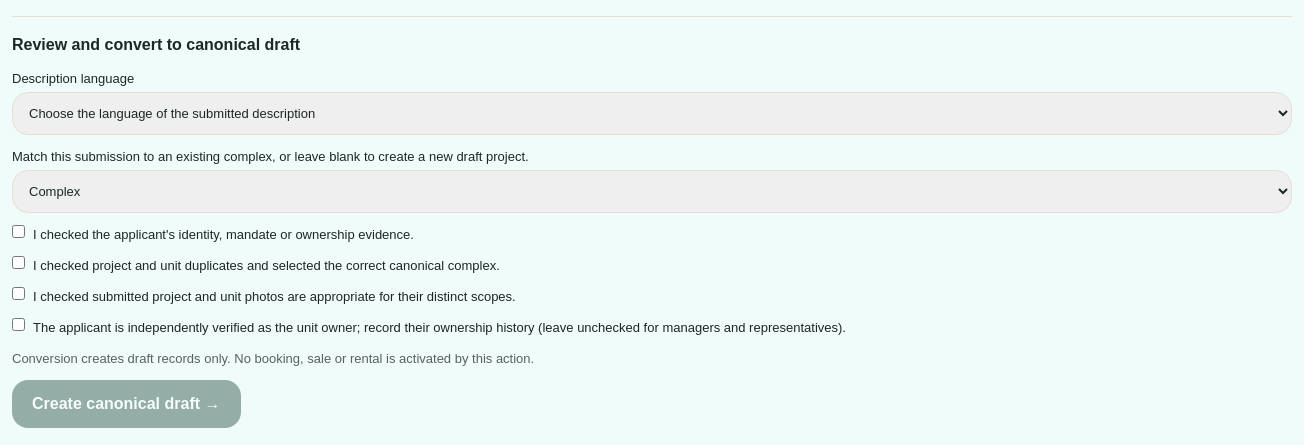
it: description language at administrative conversion › requires an explicit language for older submitted prose and leaves ownership unchecked
Click the checkbox labelled "I checked the applicant's identity, mandate or ownership evidence.": (18, 232) x1=12 y1=225 x2=25 y2=238
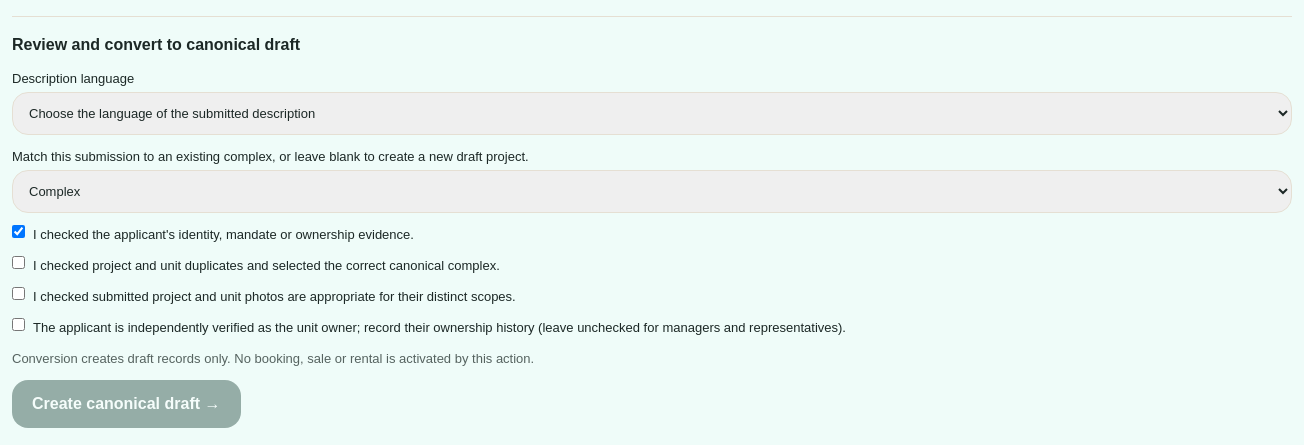
Click the checkbox named "I checked project and unit duplicates and selected the correct canonical complex.": (18, 262) x1=12 y1=256 x2=25 y2=269
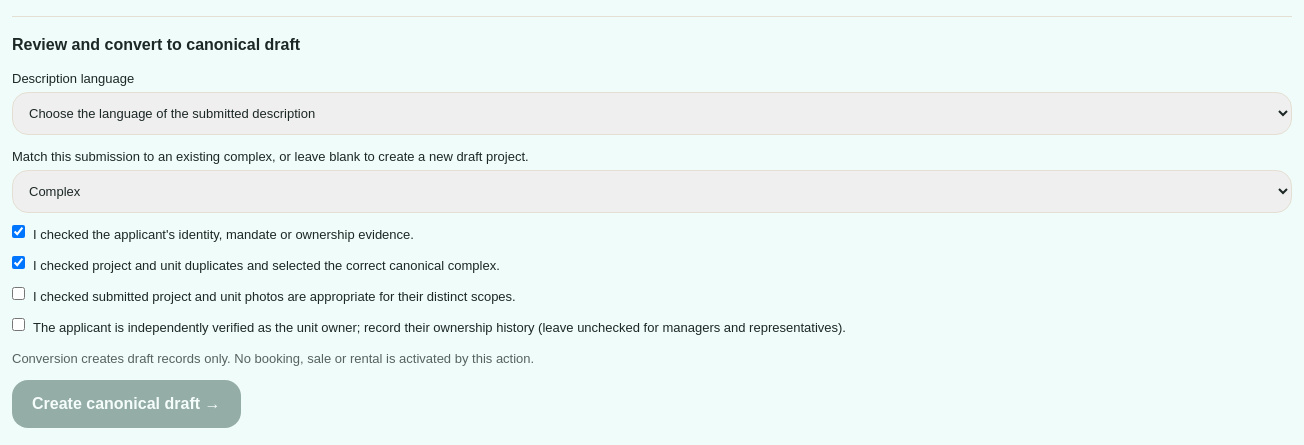
Click the checkbox named "I checked submitted project and unit photos are appropriate for their distinct scopes.": (18, 294) x1=12 y1=287 x2=25 y2=300
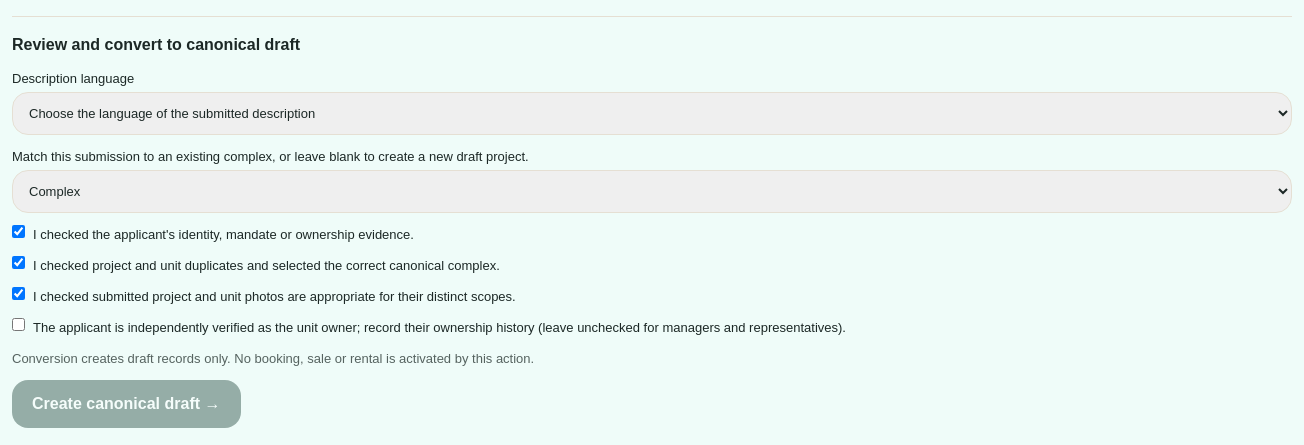
Expected: the button "Create canonical draft →" is disabled, x1=12 y1=380 x2=240 y2=428
Select "RU" in the dropdown labelled "Description language": (652, 114) x1=12 y1=92 x2=1292 y2=135
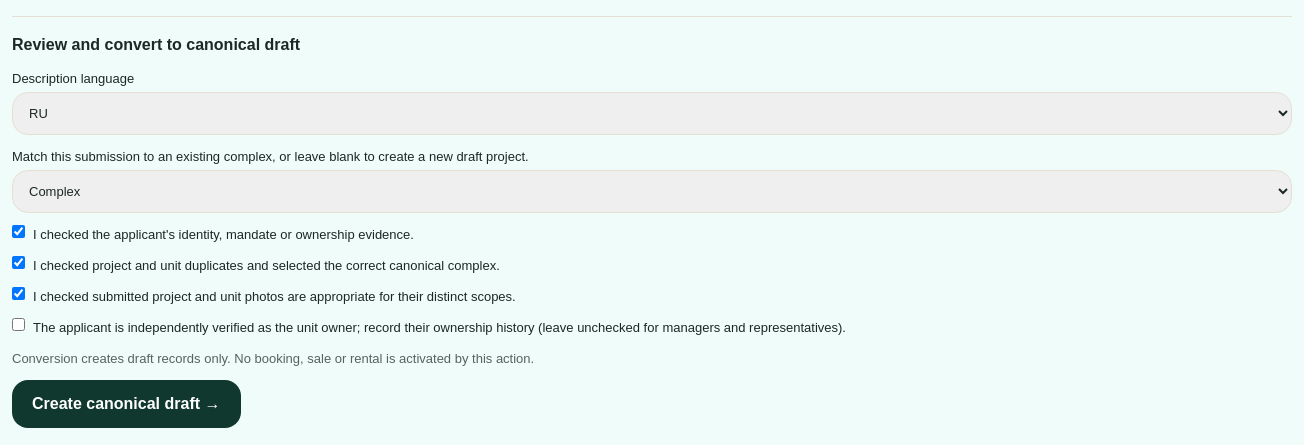
Now the button "Create canonical draft →" is enabled
Click the button "Create canonical draft →": (126, 404) x1=12 y1=380 x2=240 y2=428
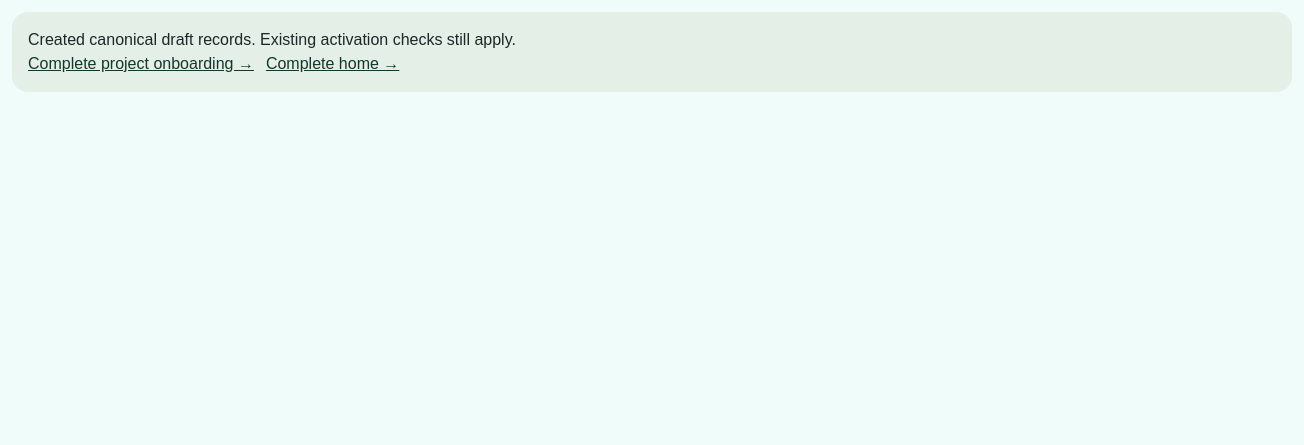
Now the text "Created canonical draft records. Existing activation checks still apply." is shown, box x1=28 y1=31 x2=516 y2=48
